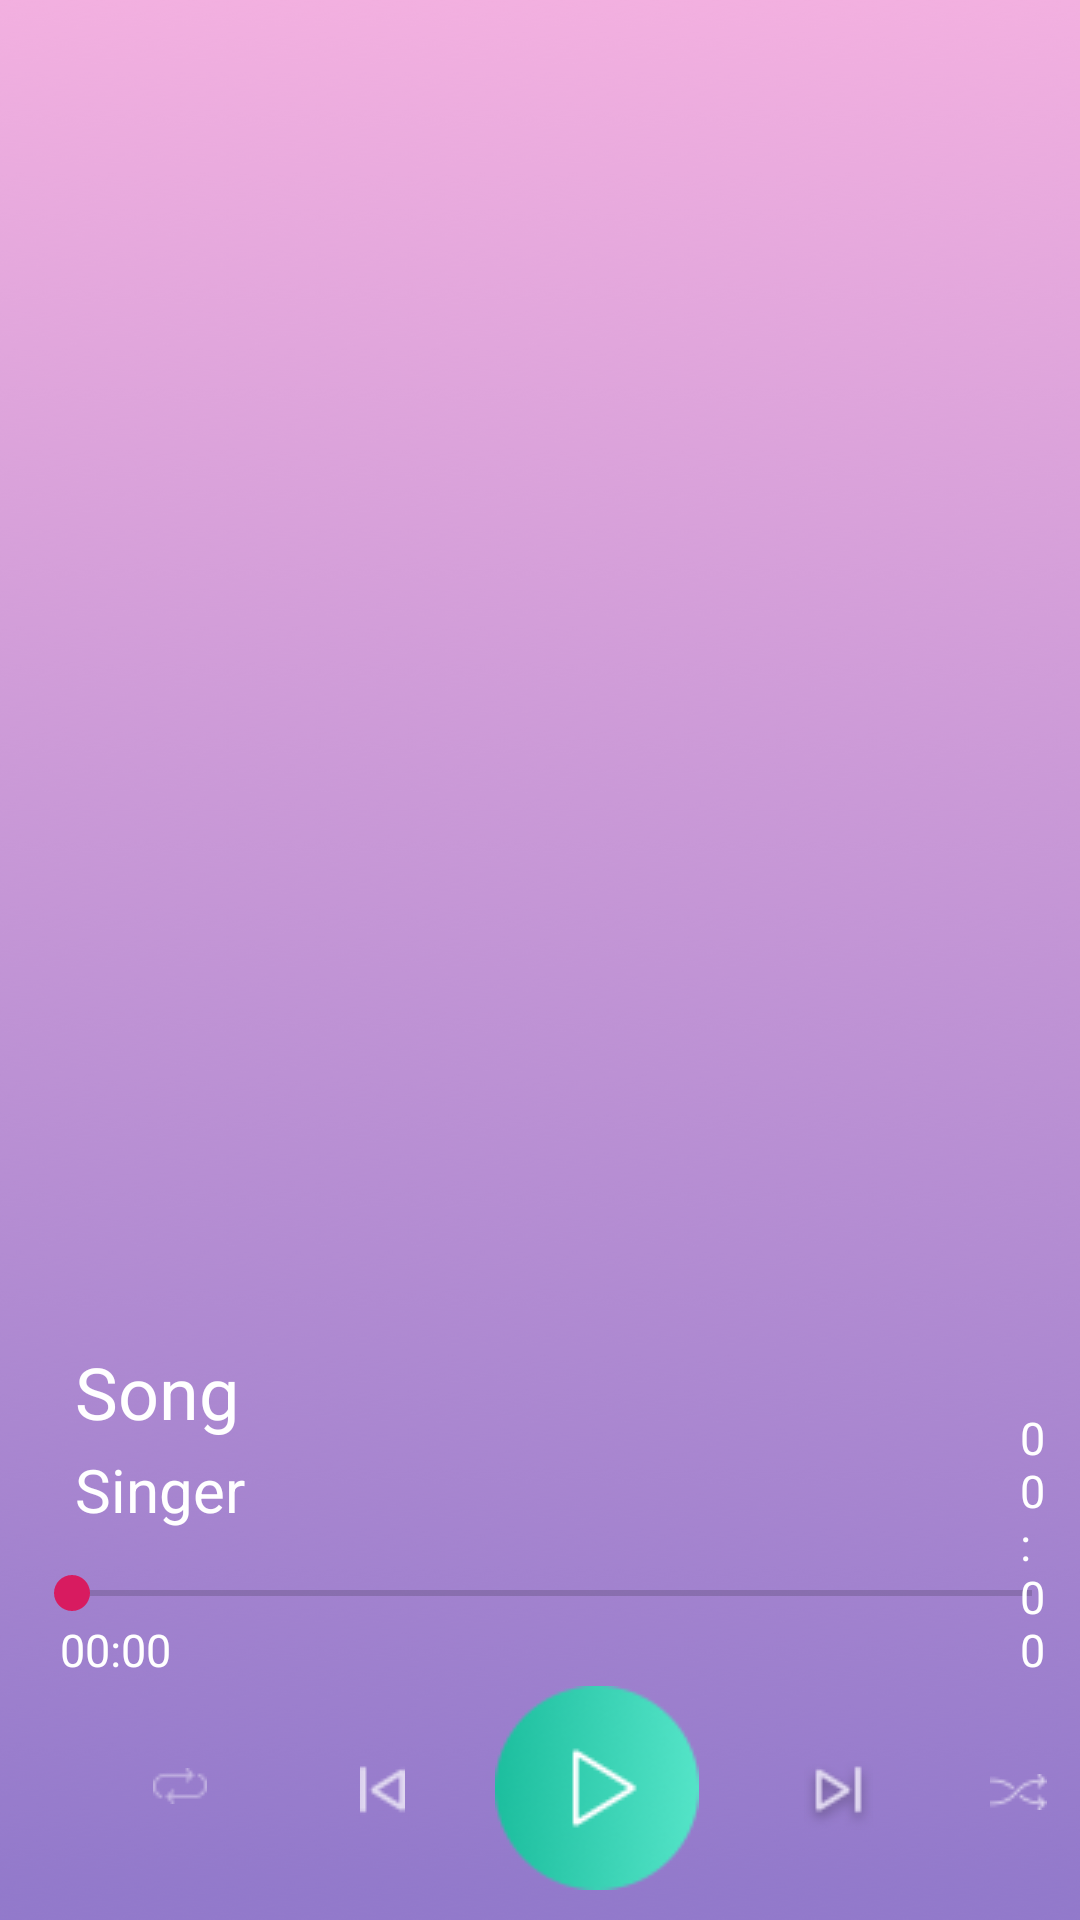

Where icons sit on this 1080px×1920px app screen, as rect(x1, y1, x2, y2):
next: rect(815, 1766, 862, 1815)
play: rect(495, 1686, 699, 1890)
previous: rect(360, 1766, 405, 1813)
random: rect(990, 1774, 1047, 1810)
repeat: rect(153, 1768, 207, 1804)
